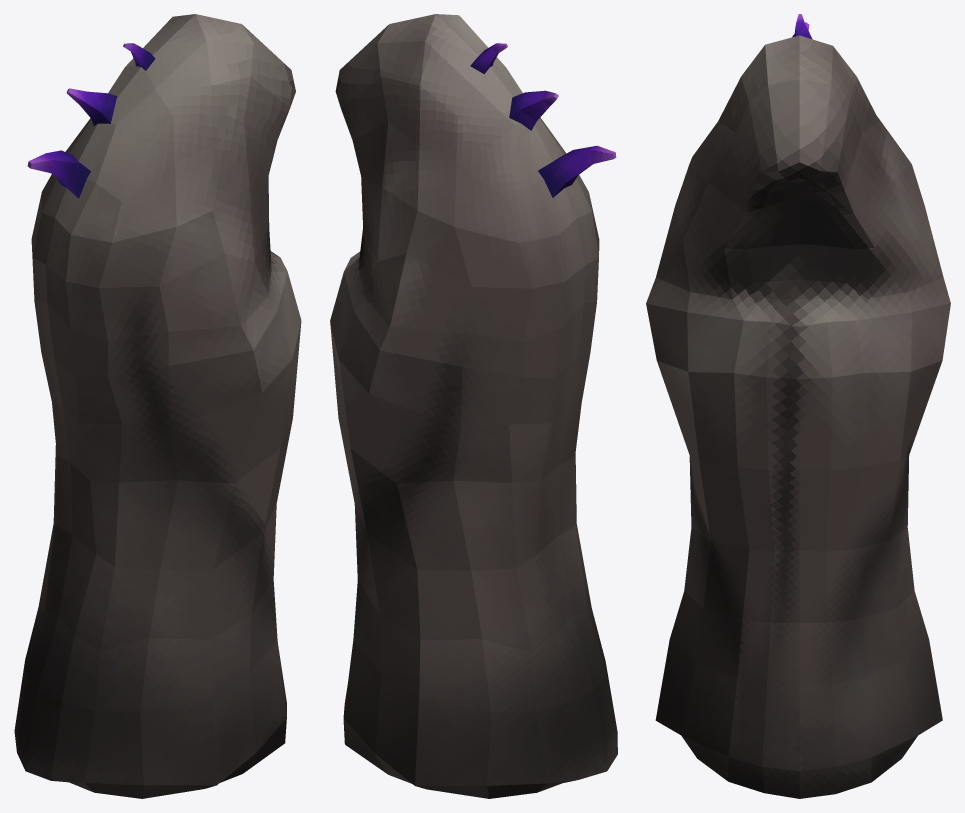
The model's file is TallThinGuy.glb.
3 renders of one model, left to right at view 1: azimuth 30°, elevation 25°; view 2: azimuth 150°, elevation 25°; view 3: azimuth 270°, elevation 25°, orthographic.
Visible parts, largest first — view 1: TallGuy, Horn, Horn.001; view 2: TallGuy, Horn, Horn.001, Horn.002; view 3: TallGuy.
Boxes of the visible parts, x1,y1,x2,y2 form: TallGuy: [14, 14, 301, 798]; Horn: [27, 150, 90, 198]; Horn.001: [66, 88, 117, 125]; TallGuy: [330, 14, 617, 798]; Horn: [538, 145, 616, 197]; Horn.001: [509, 90, 558, 130]; Horn.002: [470, 43, 507, 74]; TallGuy: [646, 35, 950, 798].
Size of the model in its own units: 0.6927 by 1.79 by 0.6773.
Materials: 3 (3 with a texture image).
